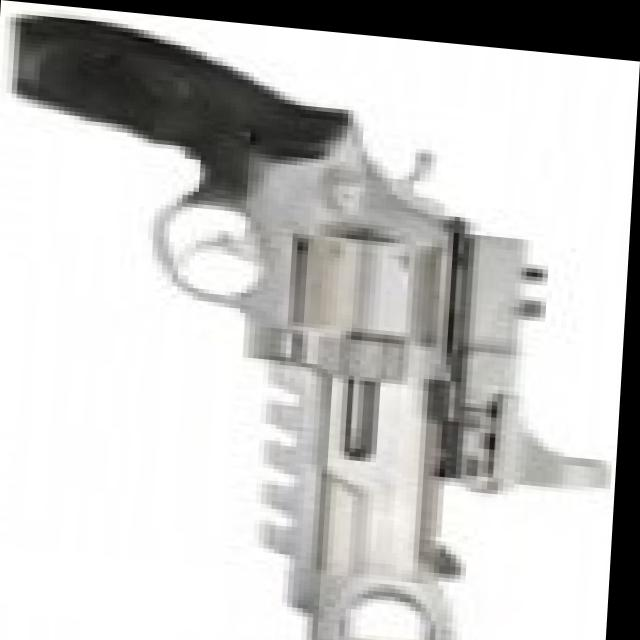handgun: (0, 13, 522, 640)
